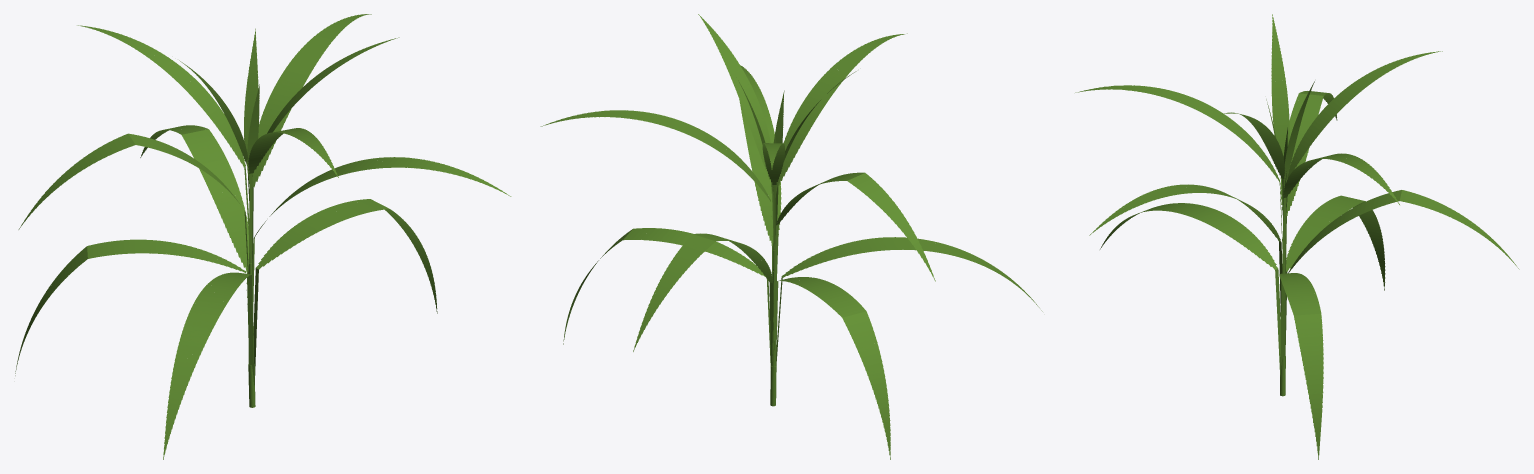
The model's file is maize_005_day_085.dae.
3 renders of one model, left to right at view 1: azimuth 30°, elevation 25°; view 2: azimuth 150°, elevation 25°; view 3: azimuth 270°, elevation 25°, orthographic. The views are drawn at different scales.
Parts seen in each view (by area): view 1: node; view 2: node; view 3: node.
Boxes of the visible parts, <box> form: node: <box>15,14,511,459</box>; node: <box>540,14,1042,459</box>; node: <box>1075,14,1519,459</box>.
Bounding box in the file's own units: 1.25 × 1.1 × 1.3.
1 material, 1 textured.
